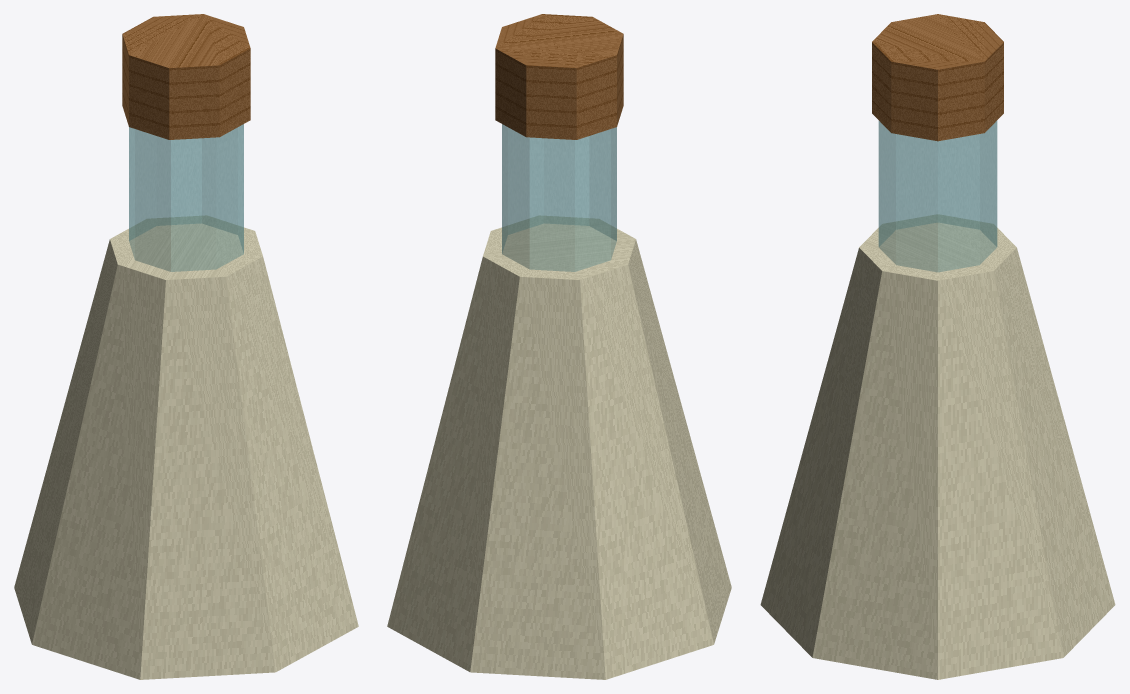
File: potion_6.glb
The picture shows the model from 3 angles, left to right: view 1: azimuth 30°, elevation 25°; view 2: azimuth 150°, elevation 25°; view 3: azimuth 270°, elevation 25°; orthographic projection.
Visible parts, largest first — view 1: bottle, neck, cork; view 2: bottle, neck, cork; view 3: bottle, neck, cork.
Part boxes in pixels (x1,y1,x2,y2): bottle: [14, 215, 358, 679]; neck: [129, 124, 243, 271]; cork: [122, 14, 250, 139]; bottle: [387, 215, 731, 679]; neck: [502, 124, 616, 271]; cork: [495, 14, 623, 139]; bottle: [760, 214, 1115, 679]; neck: [878, 121, 997, 271]; cork: [872, 14, 1003, 141].
Bounding box in the file's own units: 0.36 × 0.63 × 0.36.
2 materials, 2 textured.
